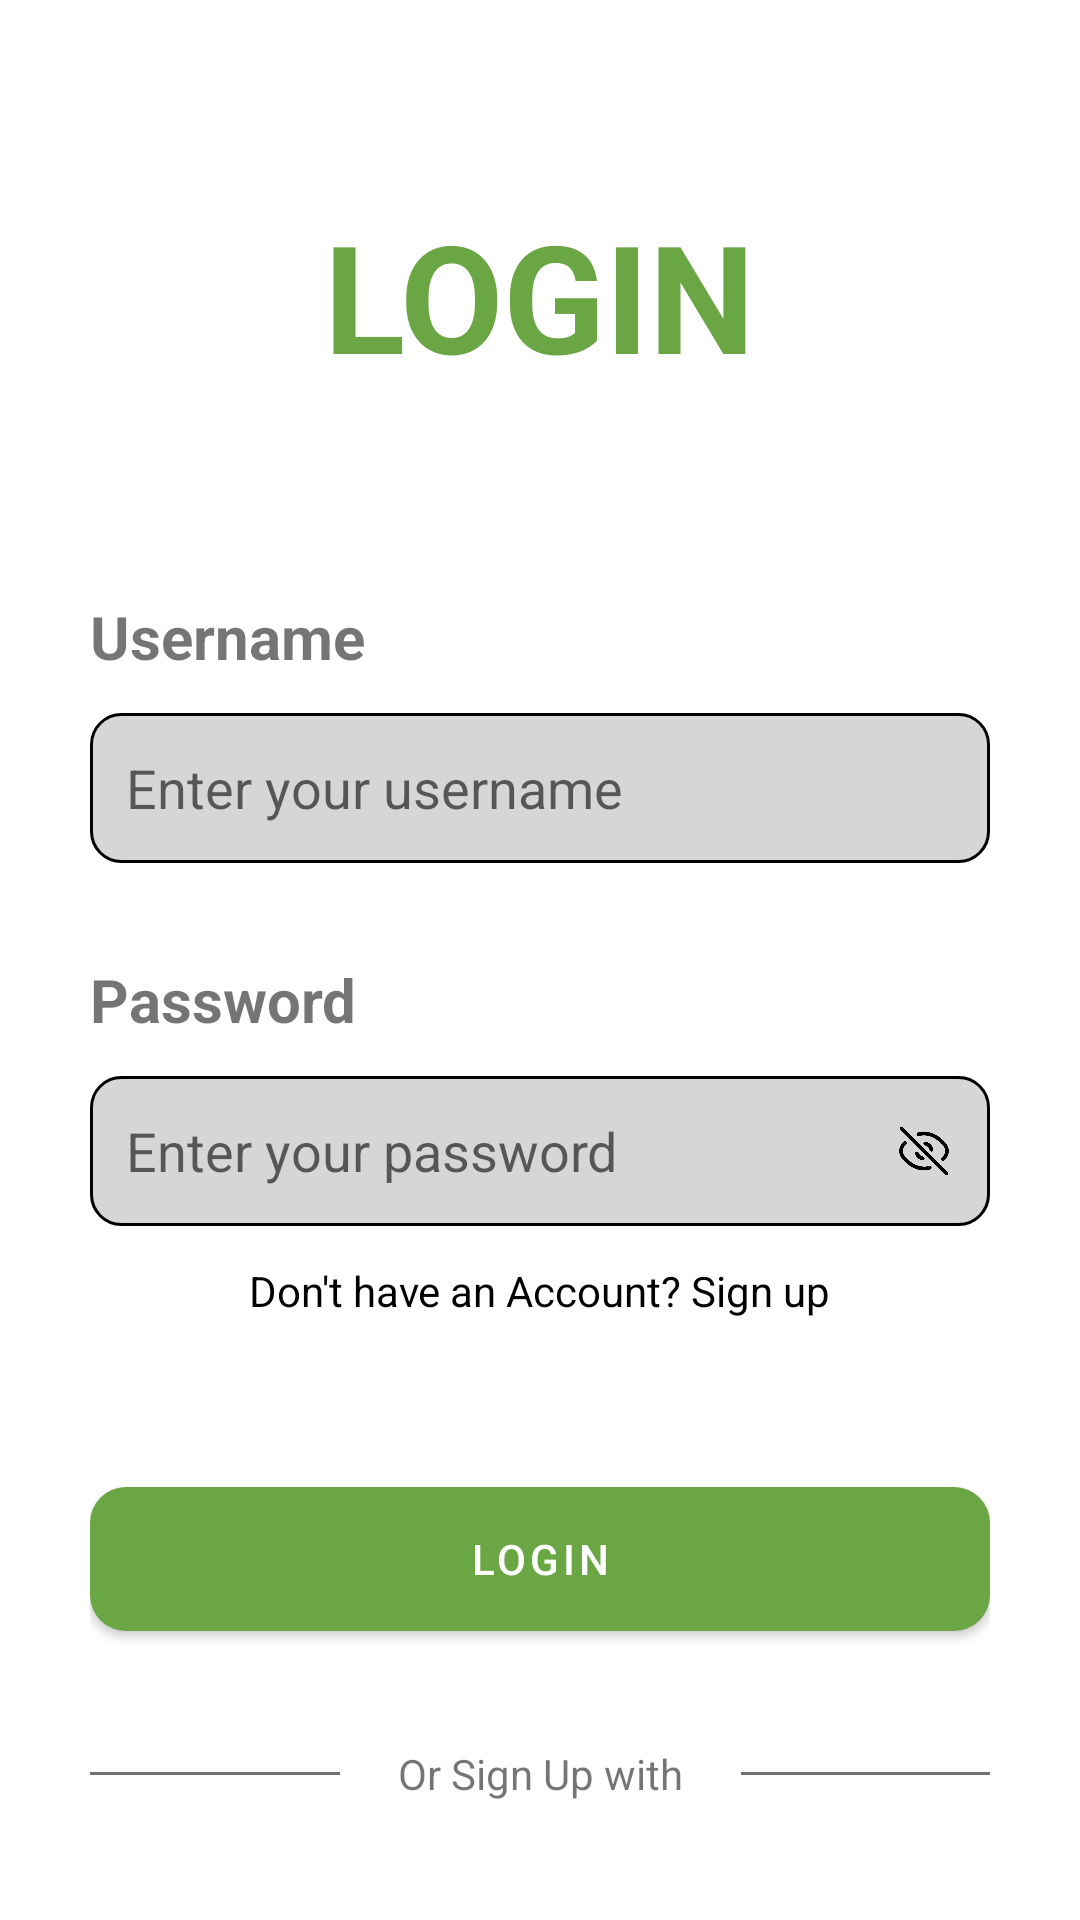

Locate icon controls on the screen. Image size 1080*1920, boxes as {"x1": x1, "y1": y1, "x2": x2, "y2": y2}.
Toggle Visibility: {"x1": 899, "y1": 1127, "x2": 949, "y2": 1175}
